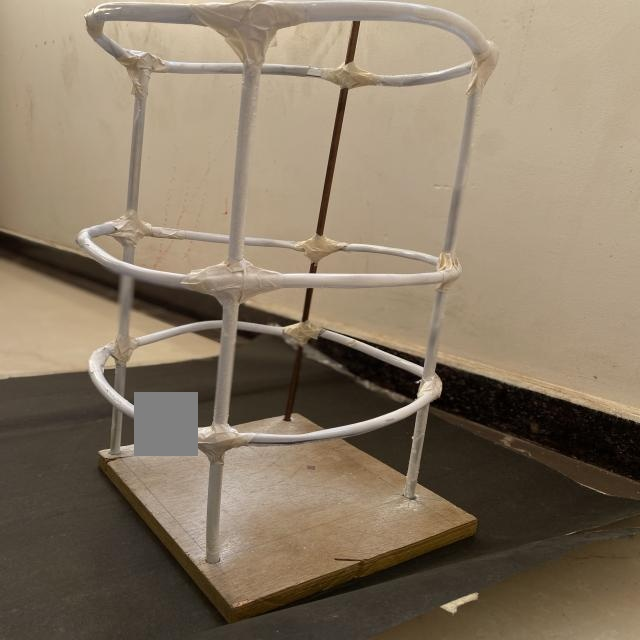silo: (68, 0, 485, 590)
